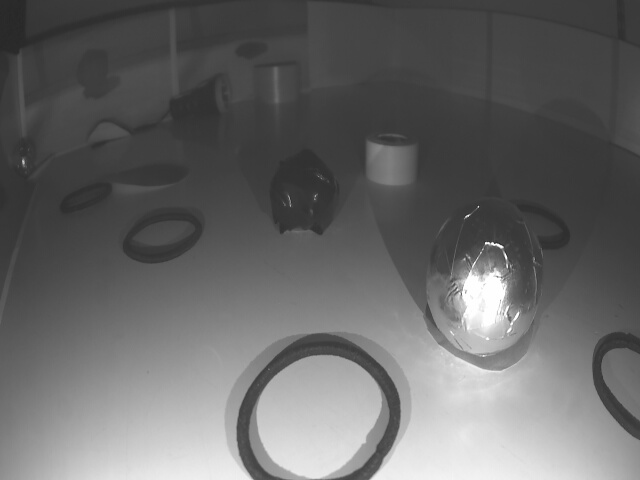Dead: (269, 150, 339, 236)
Live: (429, 196, 543, 359)
